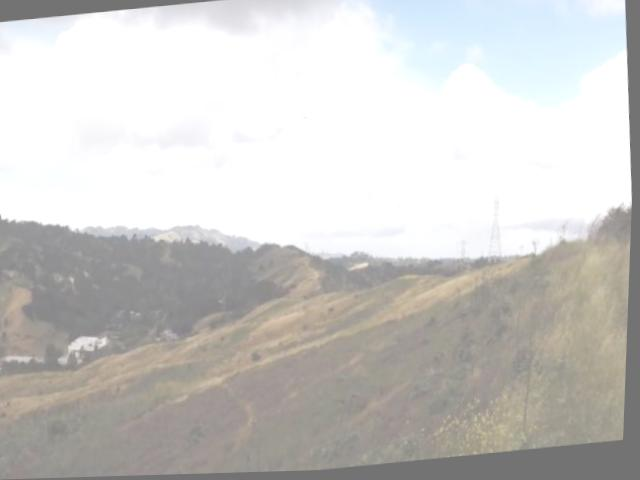iha: (295, 112, 320, 124)
